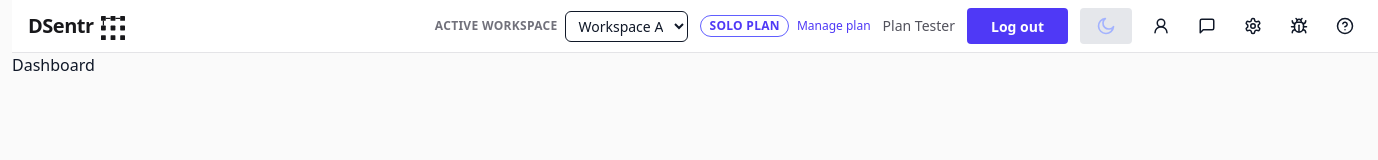
DashboardLayout workspace switcher › updates the plan badge when switching active workspace
Expected: the text "Solo plan" is shown, [700,15,789,37]
Select "Workspace B" in the dropdown named "workspace switcher" at (627, 26), box [566,10,688,42]
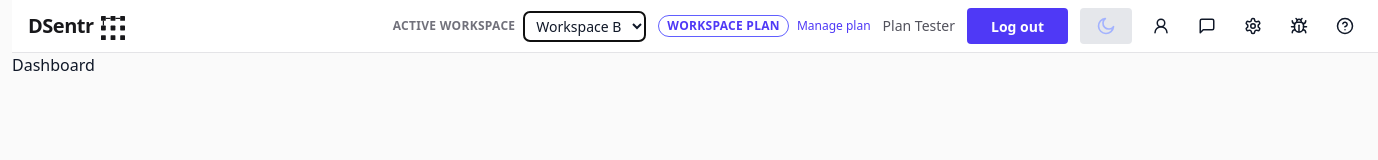
Expected: the text "Workspace plan" is shown, [658,15,789,37]
